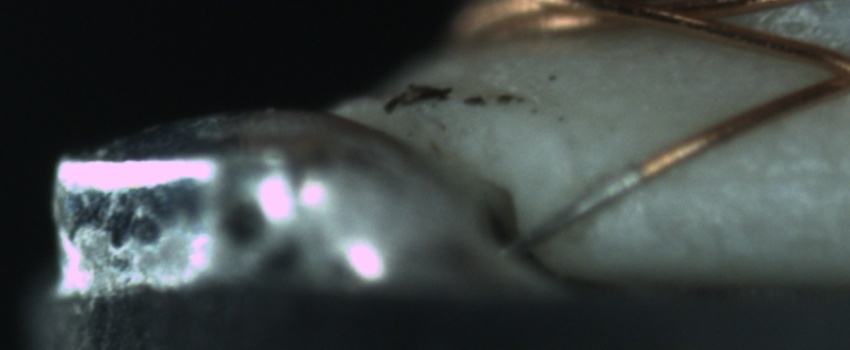CL: (801, 41, 850, 102)
DL: (674, 140, 850, 204)
TS: (503, 163, 642, 258)
TTCW: (503, 133, 709, 254)
